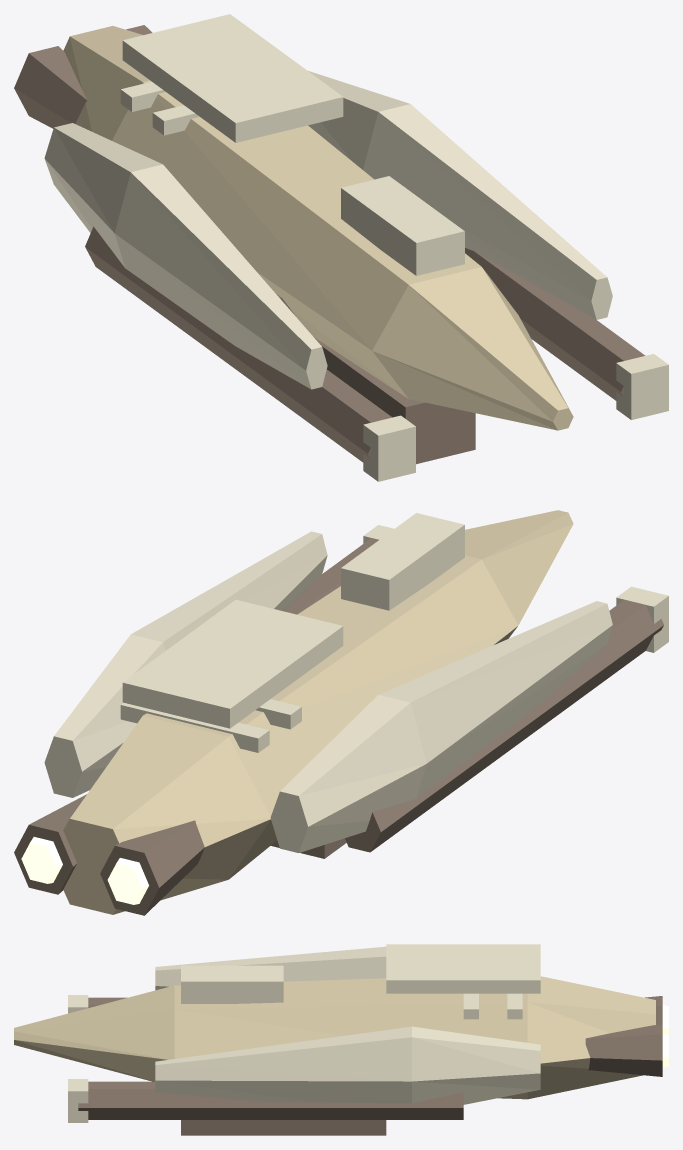
The picture shows the model from 3 angles, top to bottom: view 1: azimuth 30°, elevation 25°; view 2: azimuth 150°, elevation 25°; view 3: azimuth 270°, elevation 25°; orthographic projection. The views are drawn at different scales.
Size of the model in its own units: 2.16 by 1.57 by 5.76.
